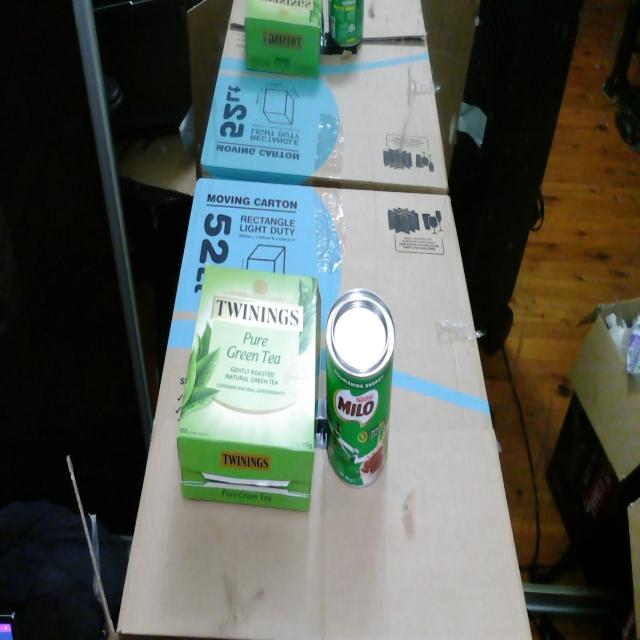nestle_milo_tin: (325, 289, 396, 488)
twinings_greentea_box: (177, 265, 321, 510)
